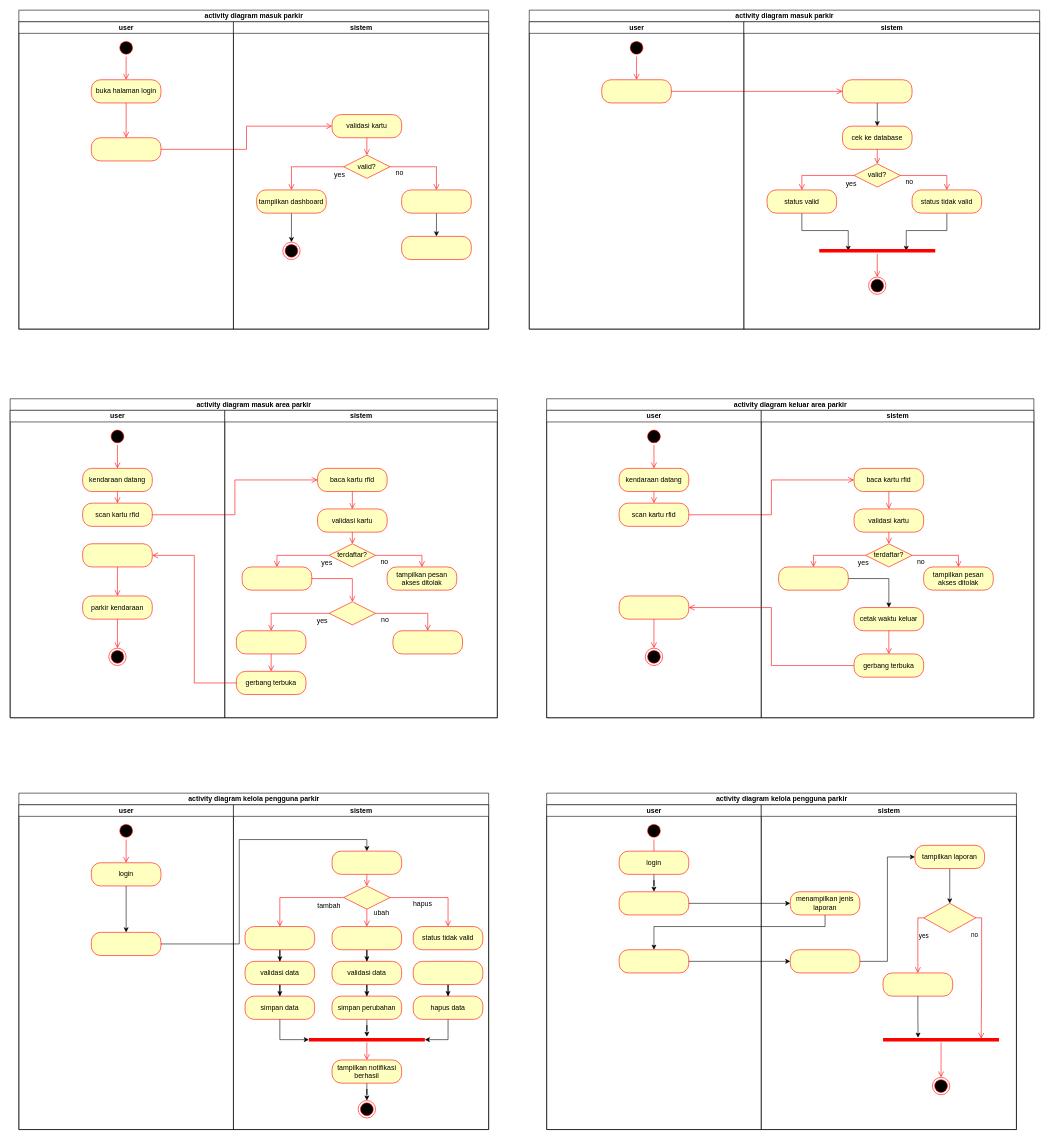
This 1050x1140 diagram has some shape labels left out. Each missing label, with the box of its shape:
ambil data transaksi: (790, 949, 860, 973)
buka menu kelola pengguna: (91, 932, 161, 956)
buka menu laporan: (619, 891, 689, 915)
cek id RFID: (842, 79, 912, 103)
cek slot parkir: (242, 566, 312, 590)
cetak waktu masuk: (236, 630, 306, 654)
cetak/unduh: (923, 903, 976, 932)
cetak/unduh laporan: (882, 972, 953, 996)
hitung durasi & biaya parkir: (778, 566, 848, 590)
input data pengguna: (244, 926, 315, 950)
input filter (tgl/periode): (619, 949, 689, 973)
input username & pass: (91, 137, 161, 161)
keluar area parkir: (619, 595, 689, 619)
kembali ke form login: (401, 236, 471, 260)
konfirmasi hapus: (413, 961, 483, 985)
masuk area parkir: (82, 543, 152, 567)
menampilkan daftar pengguna: (331, 851, 402, 874)
pilih aksi: (343, 885, 390, 909)
pilih pengguna input data baru: (331, 926, 402, 950)
tampilkan pesan error: (401, 189, 471, 213)
tampilkan pesan slot parkir penuh: (392, 630, 463, 654)
tempel kartu RFId: (601, 79, 671, 103)
tersedia?: (329, 601, 376, 625)
